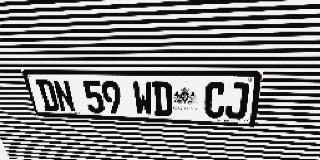5: (82, 80, 106, 113)
9: (100, 80, 123, 114)
C: (204, 82, 227, 118)
D: (35, 79, 60, 112), (152, 81, 173, 116)
J: (225, 82, 250, 119)
N: (52, 80, 76, 112)
W: (132, 81, 154, 116)
